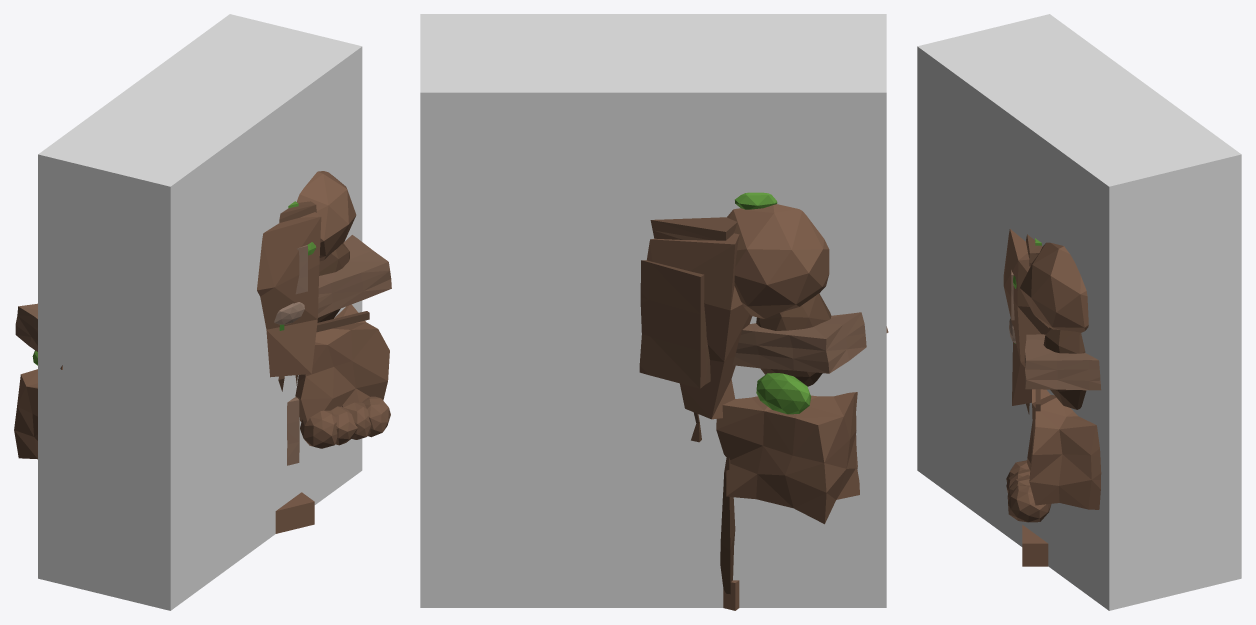
The model's file is plains_golem.fbx.
3 renders of one model, left to right at view 1: azimuth 30°, elevation 25°; view 2: azimuth 150°, elevation 25°; view 3: azimuth 270°, elevation 25°, orthographic. The views are drawn at different scales.
Visible parts, largest first — view 1: Root__-0.01_9.00_0.01__14.76_18.00_5.88, ArmL__Body__-4.61_11.64_0.00, Body__Root__0.00_8.97_0.00, ArmR__Body__4.61_11.64_0.00, LegL__Body__-2.06_6.31_0.00; view 2: Root__-0.01_9.00_0.01__14.76_18.00_5.88, Body__Root__0.00_8.97_0.00, ArmR__Body__4.61_11.64_0.00, LegR__Body__2.06_6.31_0.00; view 3: Root__-0.01_9.00_0.01__14.76_18.00_5.88, ArmL__Body__-4.61_11.64_0.00, Body__Root__0.00_8.97_0.00, LegL__Body__-2.06_6.31_0.00.
Part boxes in pixels (x1,y1,x2,y2): Root__-0.01_9.00_0.01__14.76_18.00_5.88: (38, 14, 362, 610); ArmL__Body__-4.61_11.64_0.00: (295, 235, 391, 448); Body__Root__0.00_8.97_0.00: (257, 171, 356, 391); ArmR__Body__4.61_11.64_0.00: (14, 303, 62, 459); LegL__Body__-2.06_6.31_0.00: (275, 375, 314, 533); Root__-0.01_9.00_0.01__14.76_18.00_5.88: (420, 14, 886, 607); Body__Root__0.00_8.97_0.00: (639, 192, 829, 442); ArmR__Body__4.61_11.64_0.00: (716, 293, 888, 524); LegR__Body__2.06_6.31_0.00: (720, 457, 739, 610); Root__-0.01_9.00_0.01__14.76_18.00_5.88: (917, 14, 1241, 610); ArmL__Body__-4.61_11.64_0.00: (1006, 327, 1101, 522); Body__Root__0.00_8.97_0.00: (1003, 229, 1088, 414); LegL__Body__-2.06_6.31_0.00: (1022, 525, 1048, 566).
Bounding box in the file's own units: 440 × 504 × 349.
2 materials, 1 textured.
